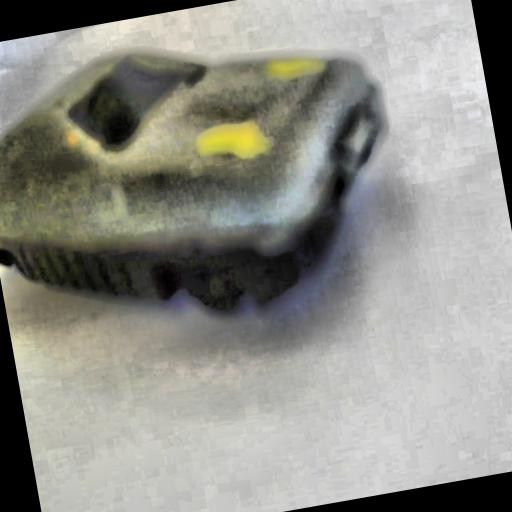normal_car: (0, 1, 418, 358)
